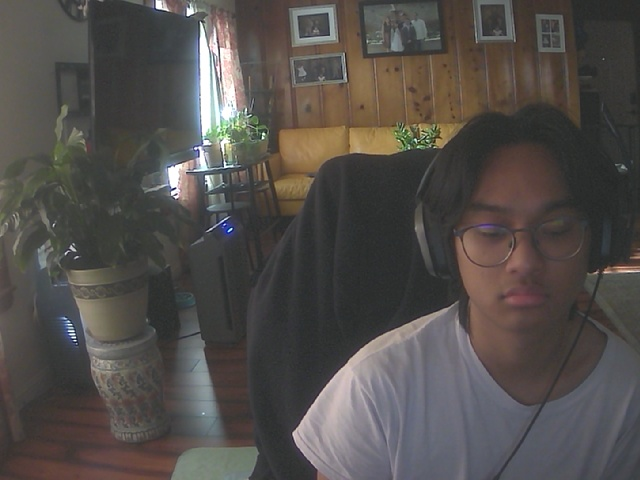neutral: (450, 144, 594, 333)
